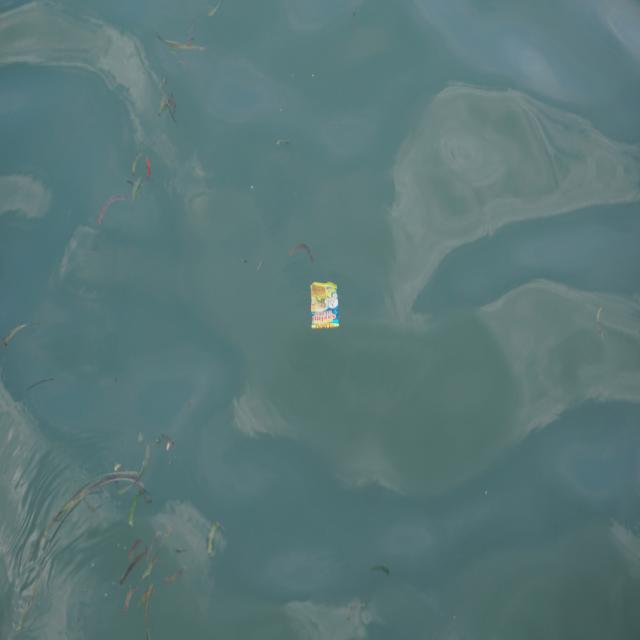Bungkus Makanan: (311, 279, 342, 336)
